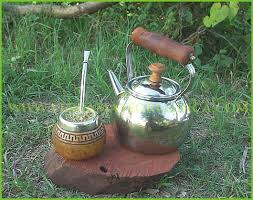guampa: (54, 49, 105, 160)
